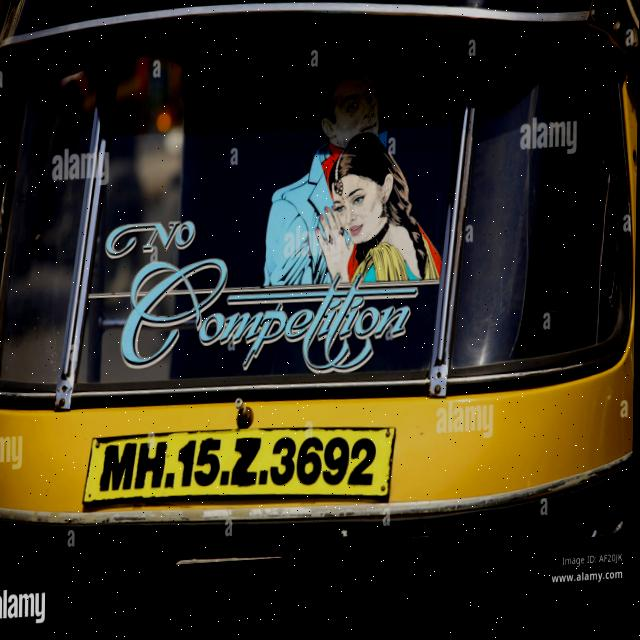plate: (79, 414, 406, 517)
